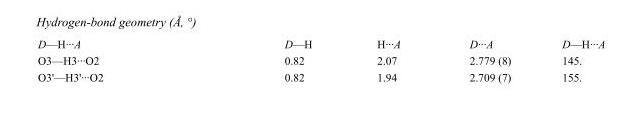table: (37, 37, 604, 82)
table column: (37, 37, 193, 82), (193, 37, 343, 82), (434, 37, 535, 82), (343, 37, 434, 82), (535, 37, 604, 82)
table row: (37, 51, 604, 68), (37, 37, 604, 51), (37, 68, 604, 82)
